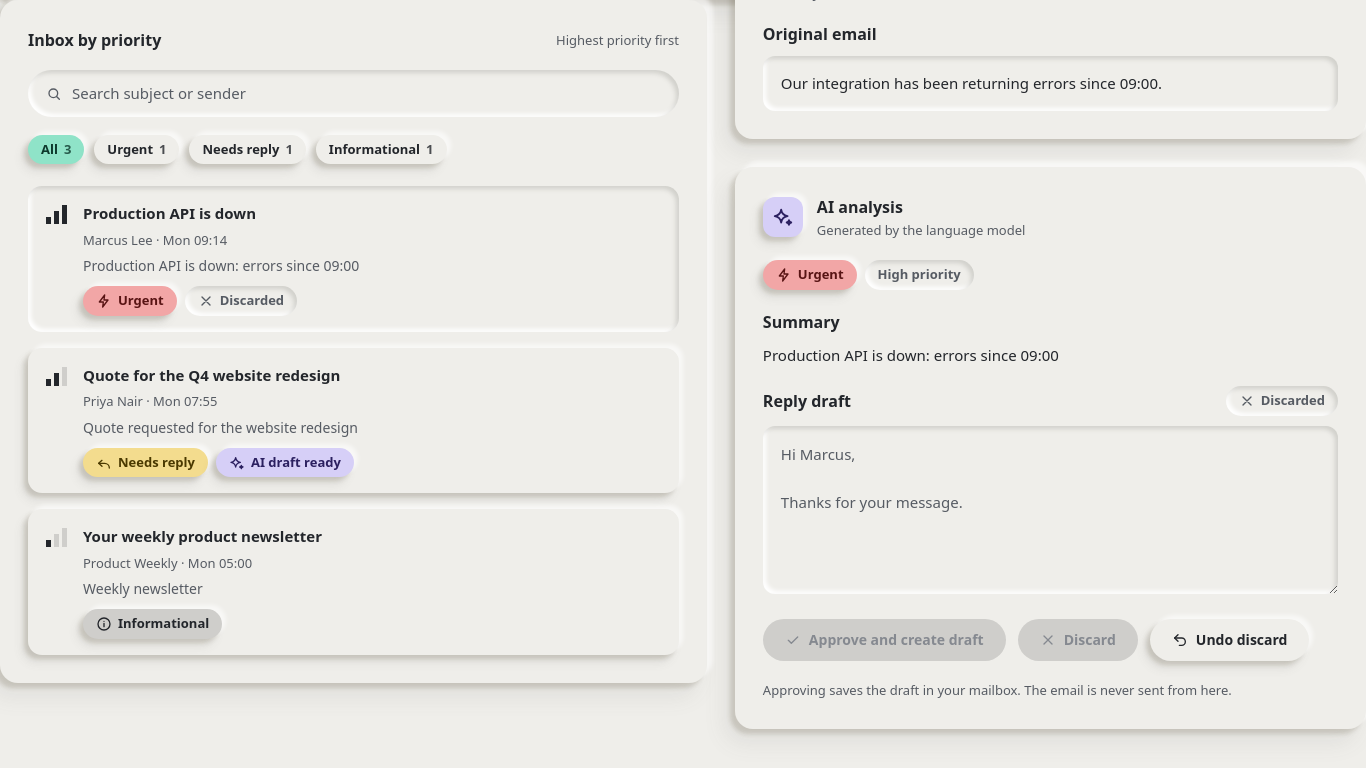
it: Overview › lets a discarded draft be undone from its AI card
(page scrolled)
Expected: the text box is disabled, x1=763 y1=426 x2=1338 y2=594
Expected: the button "Approve and create draft" is disabled, x1=763 y1=619 x2=1006 y2=661
Click the button "Undo discard". click: [1230, 640]
box: x1=1150 y1=619 x2=1309 y2=661
(page scrolled)
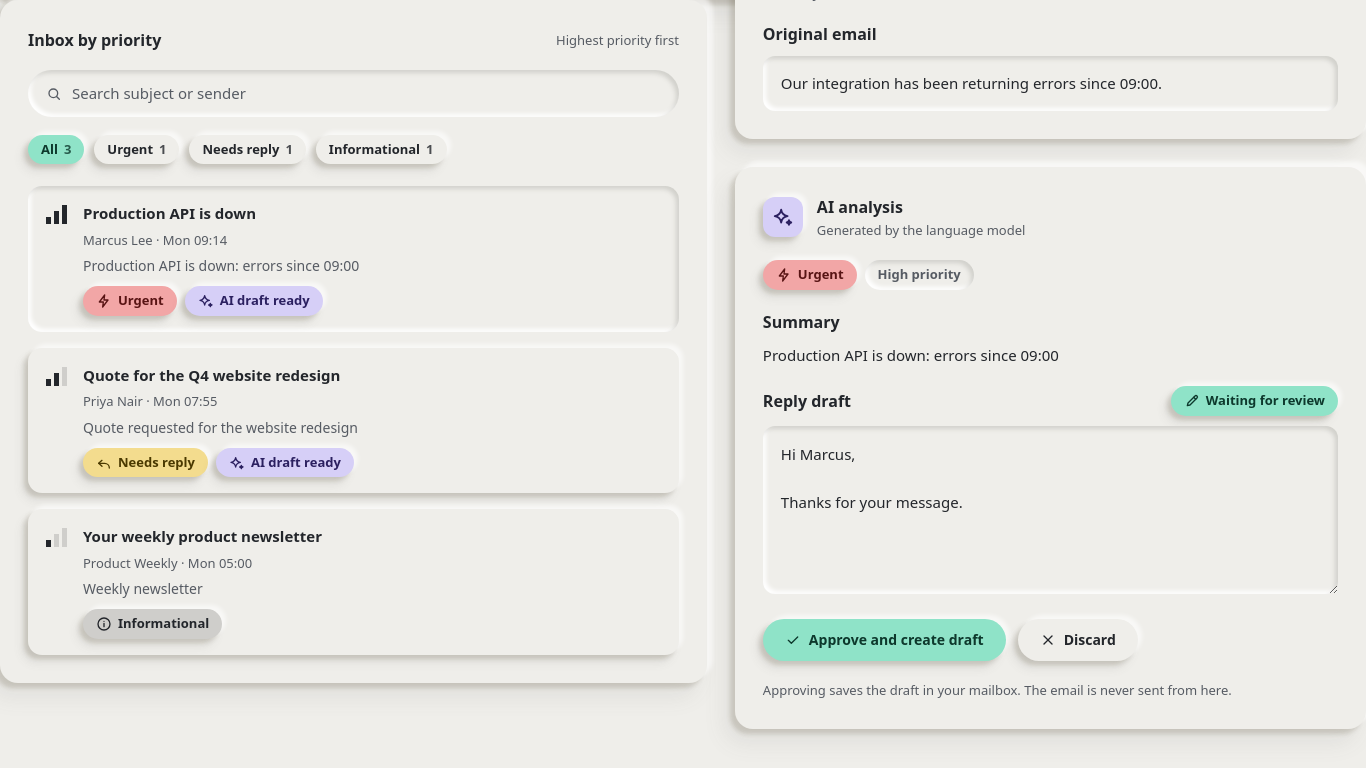
Now the text box is enabled, box x1=763 y1=426 x2=1338 y2=594
Now the text "Waiting for review" is shown, box x1=1171 y1=386 x2=1338 y2=416
Now the button "Undo discard" is gone
